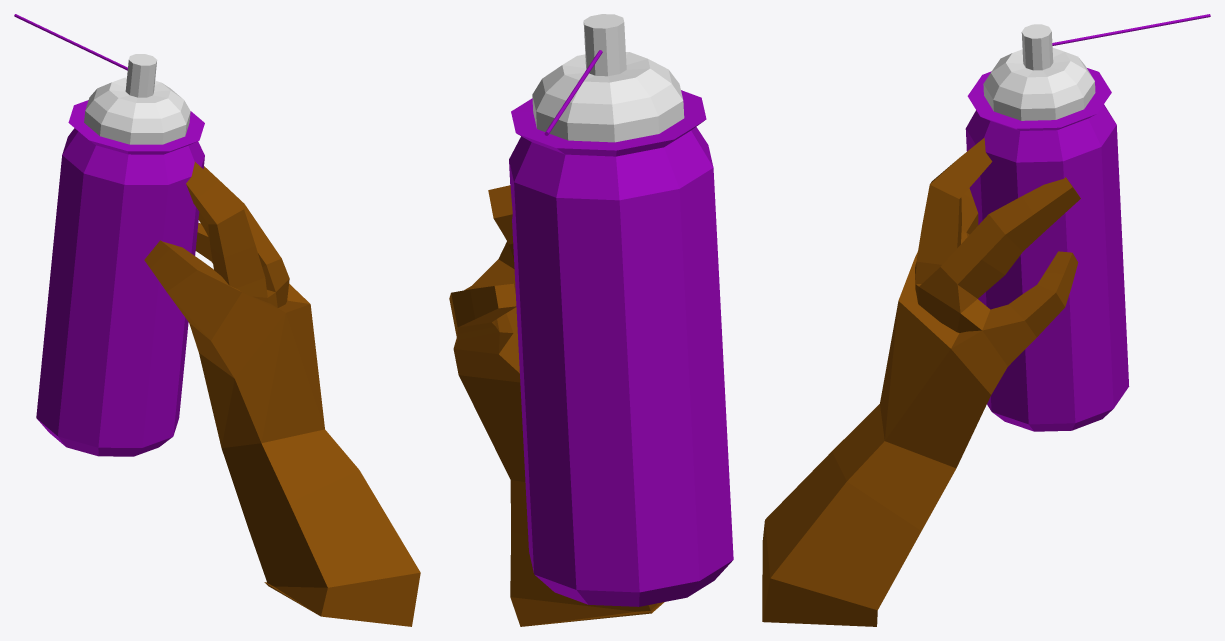
Rendered from spray c mao.fbx.
3 views of the same model, side by side, from view 1: azimuth 30°, elevation 25°; view 2: azimuth 150°, elevation 25°; view 3: azimuth 270°, elevation 25° (orthographic). The views are drawn at different scales.
Visible parts, largest first — view 1: Cube, Cylinder, Cylinder.001; view 2: Cylinder, Cube, Cylinder.001, Cylinder.003; view 3: Cube, Cylinder, Cylinder.001.
Part boxes in pixels (box(x1,y1,x2,y2)): Cube: box(144, 161, 420, 626); Cylinder: box(36, 100, 204, 456); Cylinder.001: box(84, 54, 190, 144); Cylinder: box(509, 90, 733, 606); Cube: box(449, 185, 664, 626); Cylinder.001: box(532, 14, 684, 142); Cylinder.003: box(544, 50, 602, 135); Cube: box(762, 138, 1080, 626); Cylinder: box(965, 68, 1129, 431); Cylinder.001: box(983, 24, 1095, 120).
Size of the model in its own units: 87.69 by 181 by 139.
